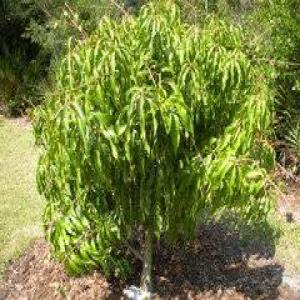Tree: (32, 10, 273, 270)
